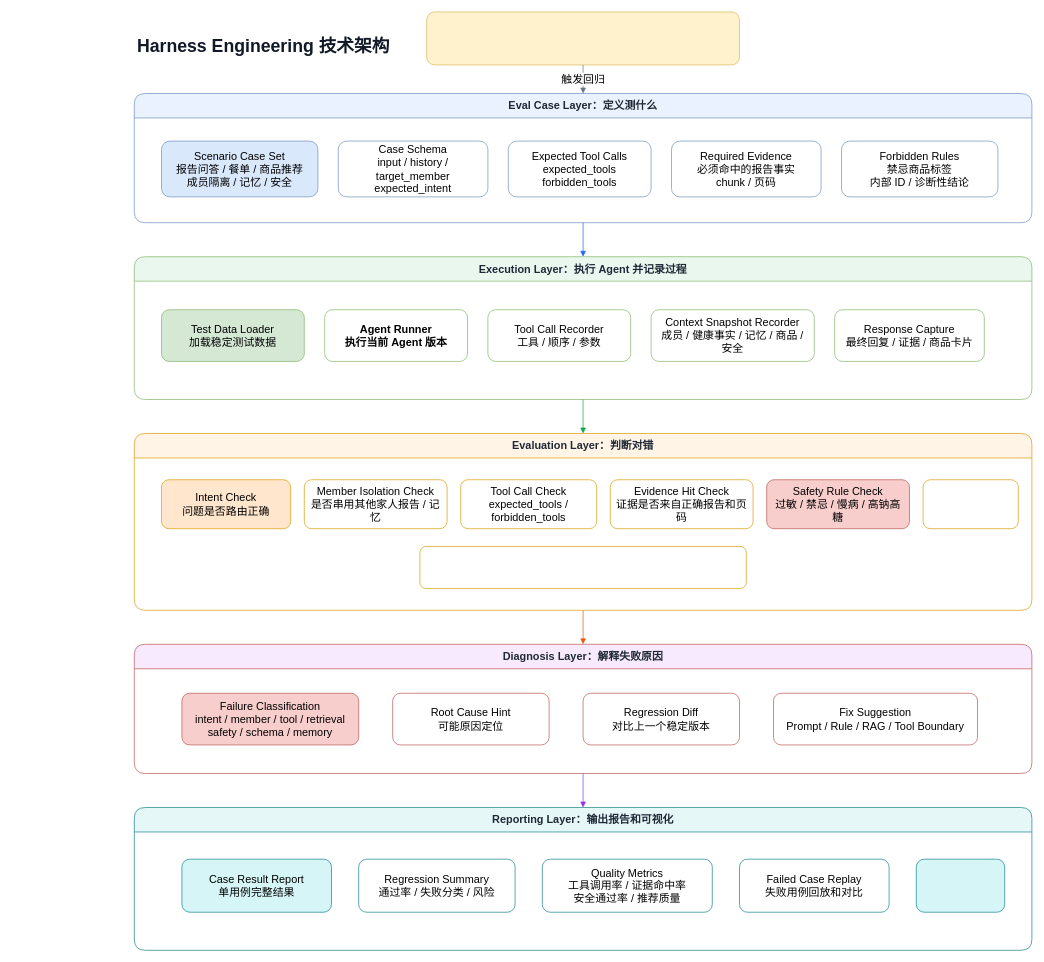
Some shapes in this 1044 by 962 pixel diagram are drawn without their labels. Each missing label, with the centre of its shape:
"Harness Dashboard 比赛展示 / 研发调试" goes at [960,885].
"Recommendation Quality Check 健康匹配 / 偏好 / 预算 / 类目 / 推荐证据" goes at [582,567].
"Response Schema Check" goes at [970,504].
"变更触发 Prompt / Tool / RAG / 推荐规则 / 商品标签 / 模型" goes at [583,38].
